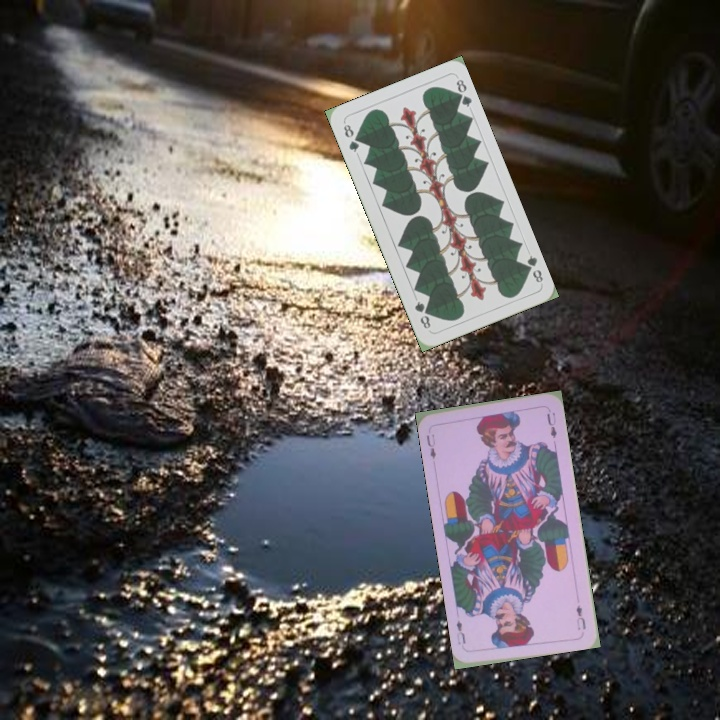EU: (572, 601, 589, 633), (422, 430, 438, 462)
G8: (520, 251, 546, 285), (339, 118, 362, 155)
